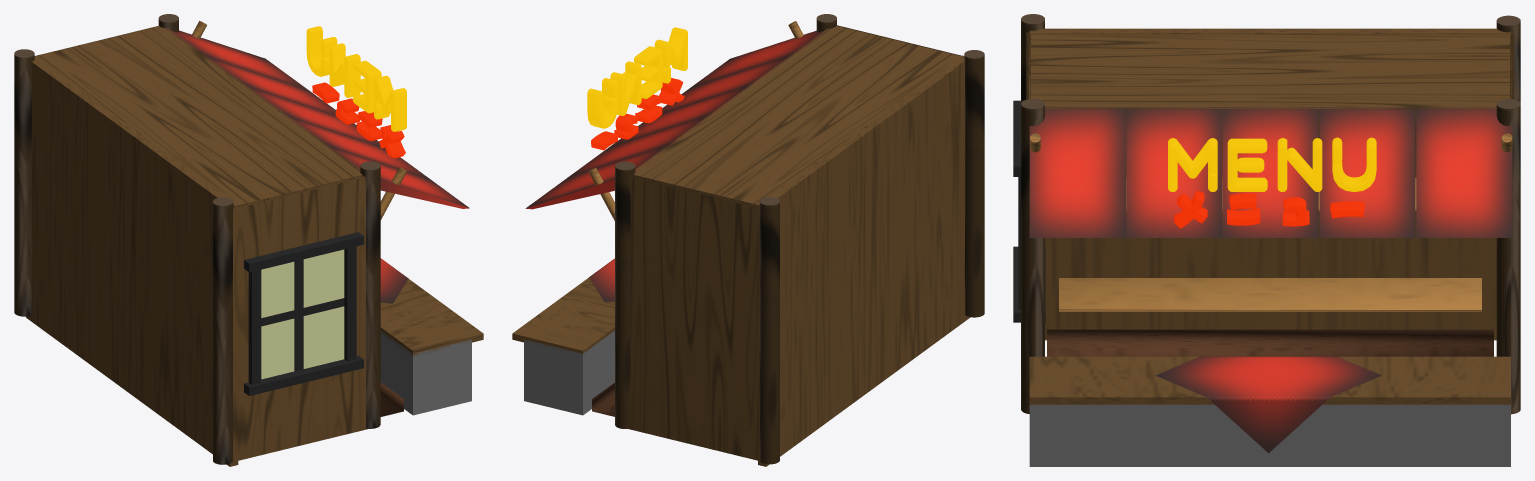
The model's file is shop-low.glb.
The picture shows the model from 3 angles, left to right: view 1: azimuth 30°, elevation 25°; view 2: azimuth 150°, elevation 25°; view 3: azimuth 270°, elevation 25°; orthographic projection. The views are drawn at different scales.
Visible parts, largest first — view 1: back wall, Cube.001, Cube.007, Cube.013, Plane, Cylinder.005, Cylinder.004, English, Cube, Cylinder.002, Text.001, Cube.006 (+12 smaller); view 2: back wall, Cube.009, Cube.001, Cylinder.004, Plane, Cylinder.005, English, Cube, Cylinder, Cube.004, Text.001, Cube.002 (+5 smaller); view 3: Cube.001, back wall, Plane, Cube, Base.005, Base.004, Cube.006, Cube.004, Plane.001, Cube.002, Cube.003, Cube.005 (+8 smaller).
Boxes of the visible parts, left/top/right/bottom form: back wall: left=26, top=56, right=238, bottom=466; Cube.001: left=35, top=26, right=362, bottom=206; Cube.007: left=232, top=176, right=368, bottom=462; Cube.013: left=261, top=249, right=344, bottom=379; Plane: left=380, top=331, right=471, bottom=415; Cylinder.005: left=213, top=197, right=233, bottom=464; Cylinder.004: left=14, top=49, right=34, bottom=316; English: left=306, top=26, right=406, bottom=131; Cube: left=380, top=279, right=483, bottom=356; Cylinder.002: left=360, top=161, right=380, bottom=428; Text.001: left=312, top=82, right=405, bottom=158; Cube.006: left=324, top=144, right=469, bottom=208; back wall: left=758, top=55, right=970, bottom=466; Cube.009: left=629, top=176, right=759, bottom=460; Cube.001: left=633, top=26, right=960, bottom=205; Cylinder.004: left=759, top=197, right=779, bottom=464; Plane: left=524, top=331, right=614, bottom=415; Cylinder.005: left=964, top=50, right=984, bottom=317; English: left=587, top=27, right=687, bottom=128; Cube: left=512, top=277, right=614, bottom=355; Cylinder: left=615, top=161, right=635, bottom=428; Cube.004: left=525, top=145, right=670, bottom=209; Text.001: left=591, top=78, right=684, bottom=150; Cube.002: left=567, top=115, right=711, bottom=178; Cube.001: left=1030, top=34, right=1510, bottom=122; back wall: left=1029, top=28, right=1510, bottom=340; Plane: left=1029, top=404, right=1510, bottom=466; Cube: left=1029, top=356, right=1510, bottom=404; Base.005: left=1059, top=278, right=1481, bottom=311; Base.004: left=1047, top=329, right=1493, bottom=356; Cube.006: left=1029, top=107, right=1125, bottom=237; Cube.004: left=1416, top=107, right=1512, bottom=237; Plane.001: left=1155, top=356, right=1381, bottom=453; Cube.002: left=1319, top=107, right=1415, bottom=237; Cube.003: left=1126, top=107, right=1221, bottom=237; Cube.005: left=1222, top=107, right=1318, bottom=237.
Bounding box in the file's own units: 4.57 × 4.5 × 6.33.
Materials: 12 (7 with a texture image).
